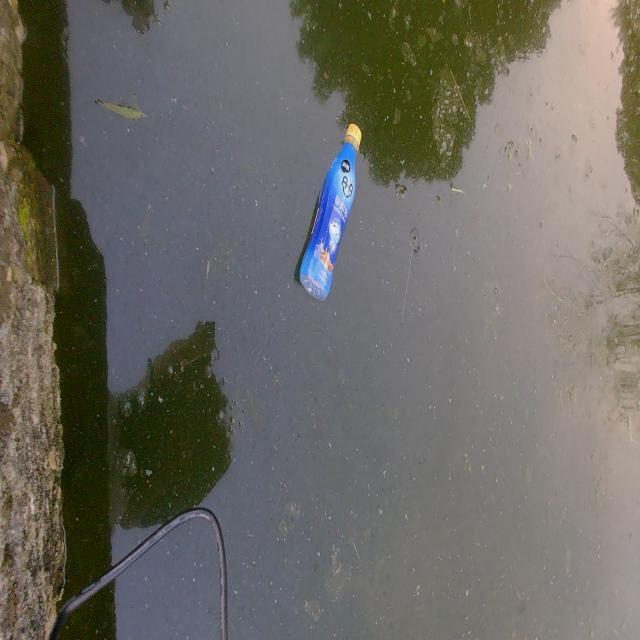bottle: (275, 78, 377, 333)
